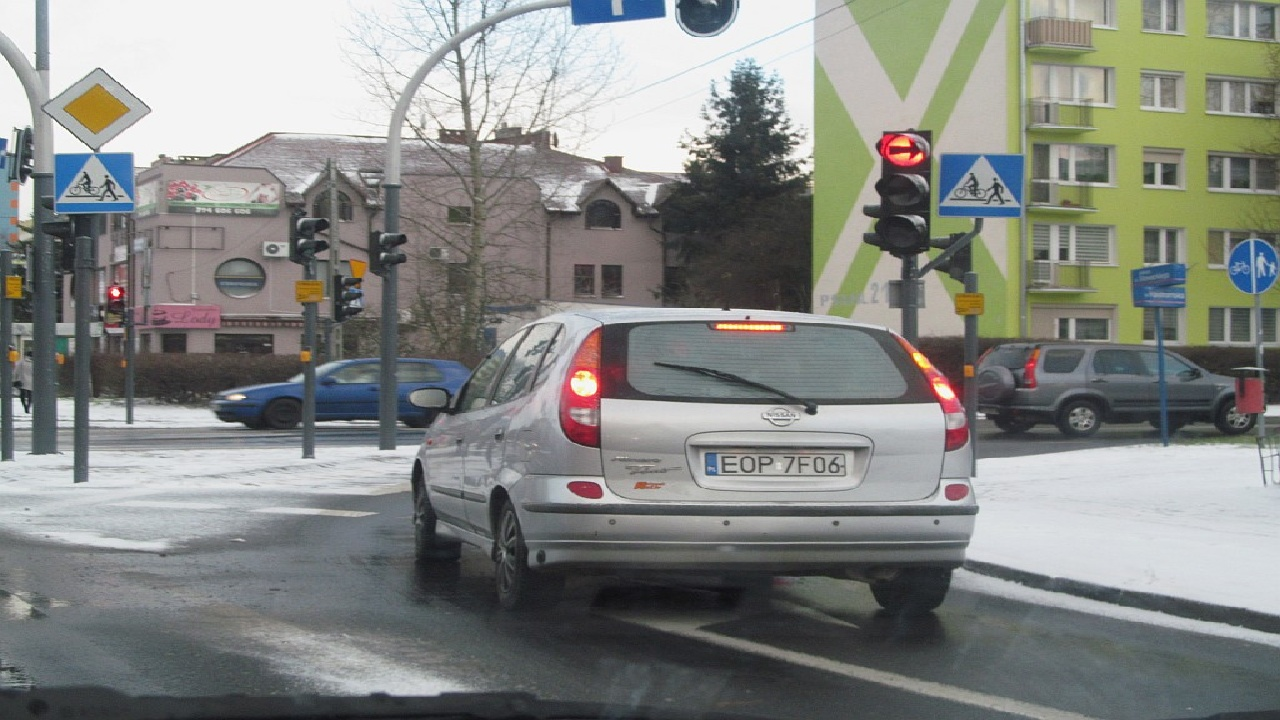A7: (349, 258, 367, 289)
D1: (42, 69, 153, 151)
D6b: (937, 151, 1026, 222), (54, 153, 135, 211)
Red: (878, 133, 930, 252)
